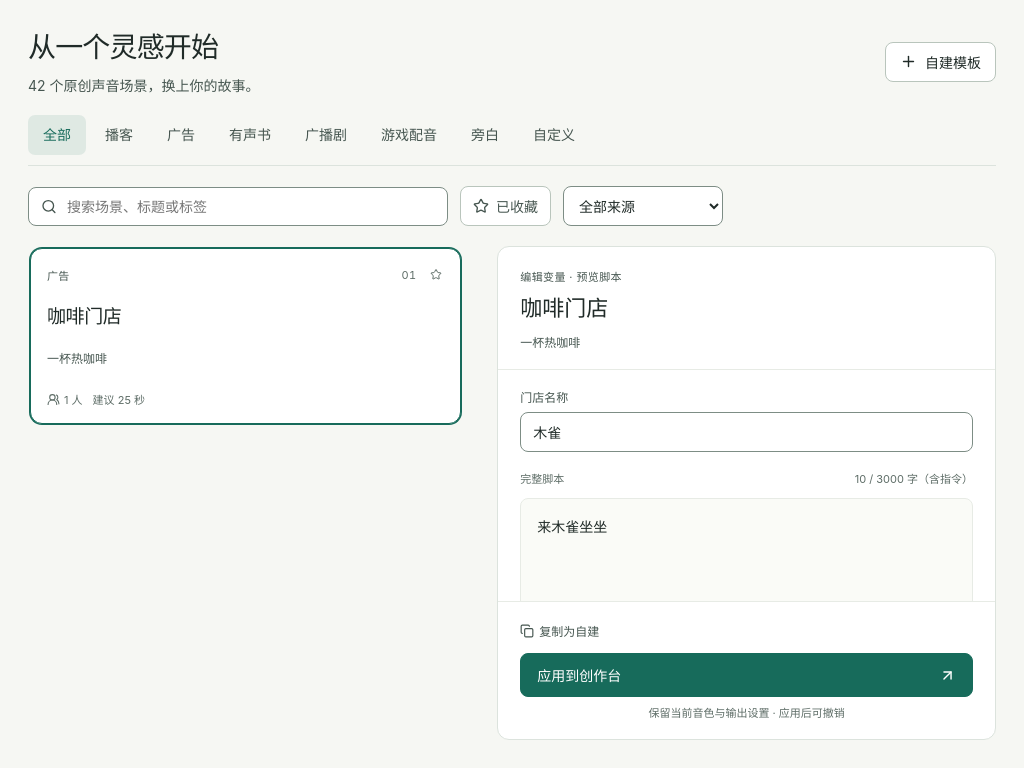
Test: 收藏按钮仅改变收藏，不触发应用或生成
The width and height of the screenshot is (1024, 768).
Click the button named "收藏咖啡门店". click: (436, 274)
box: [416,254,456,294]
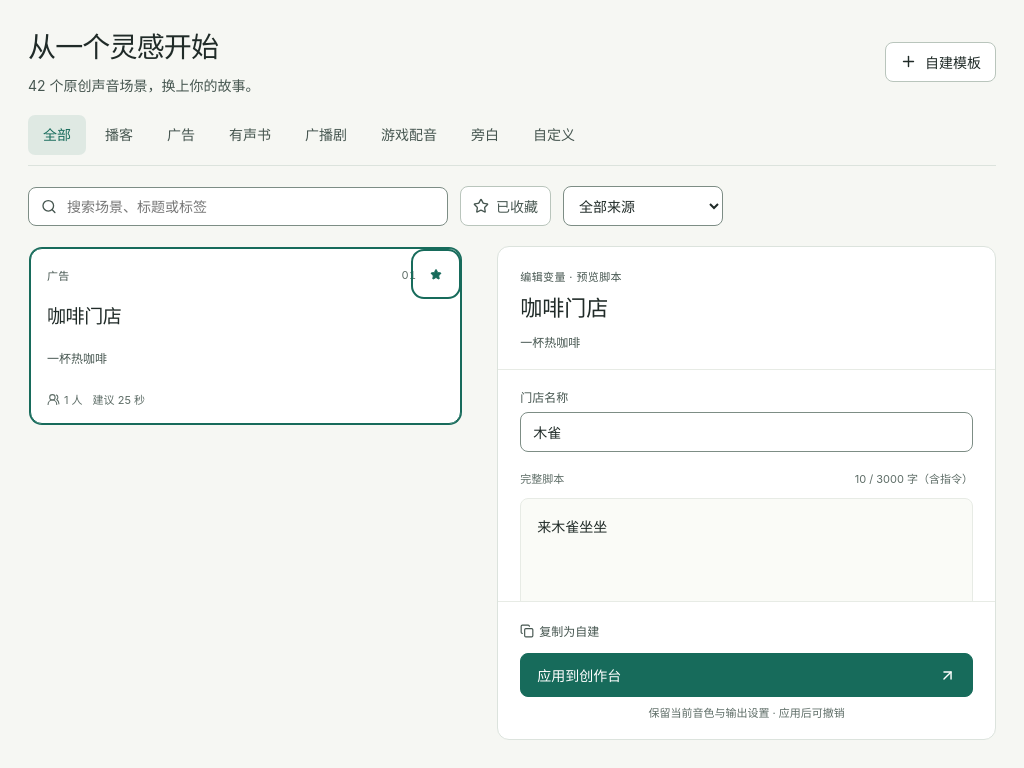
Result: the button named "取消收藏咖啡门店" is shown at [416,254,456,294]
